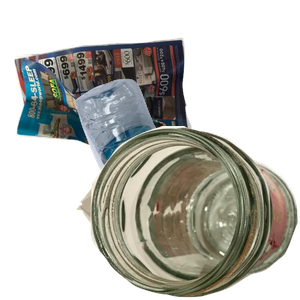glass: (90, 126, 300, 300)
paper: (12, 31, 196, 204)
plastic: (73, 76, 300, 256)
trash: (74, 148, 273, 300)
